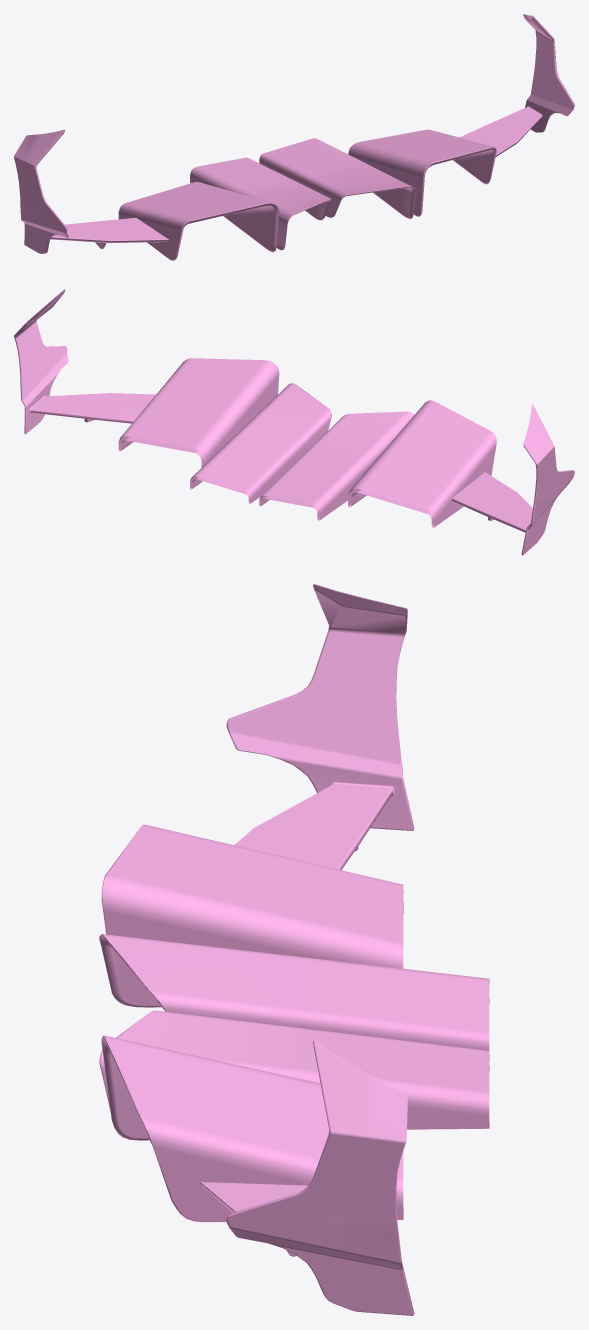
The picture shows the model from 3 angles, top to bottom: view 1: azimuth 30°, elevation 25°; view 2: azimuth 150°, elevation 25°; view 3: azimuth 270°, elevation 25°; orthographic projection. The views are drawn at different scales.
Visible parts, largest first — view 1: Object_51; view 2: Object_51; view 3: Object_51.
Boxes of the visible parts, x1,y1,x2,y2 form: Object_51: (14,14,574,260); Object_51: (14,289,574,555); Object_51: (99,584,489,1315).
Bounding box in the file's own units: 2.02 × 0.4811 × 0.6523.
